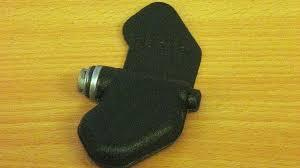PMF 1: (77, 1, 204, 168)
